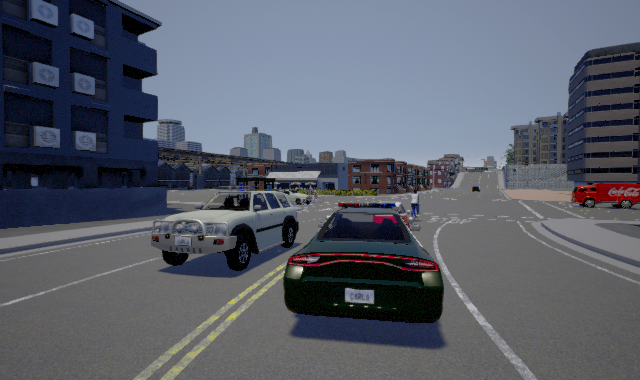bike: (409, 188, 422, 221)
vehicle: (283, 201, 444, 323), (151, 186, 317, 271), (571, 183, 640, 209)
